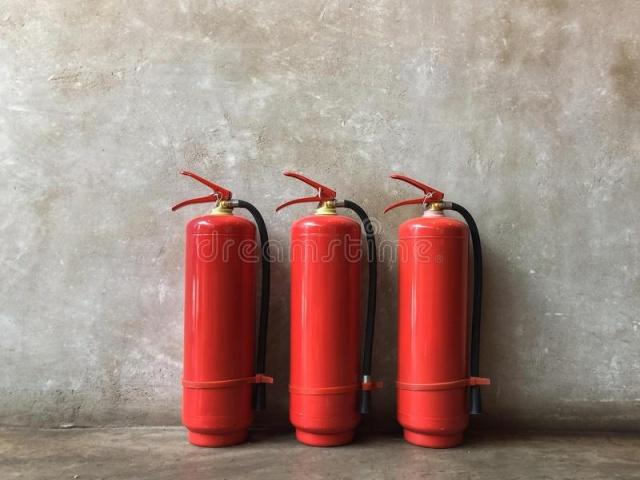APAR: (381, 173, 489, 449), (273, 170, 376, 448), (169, 169, 258, 447)
